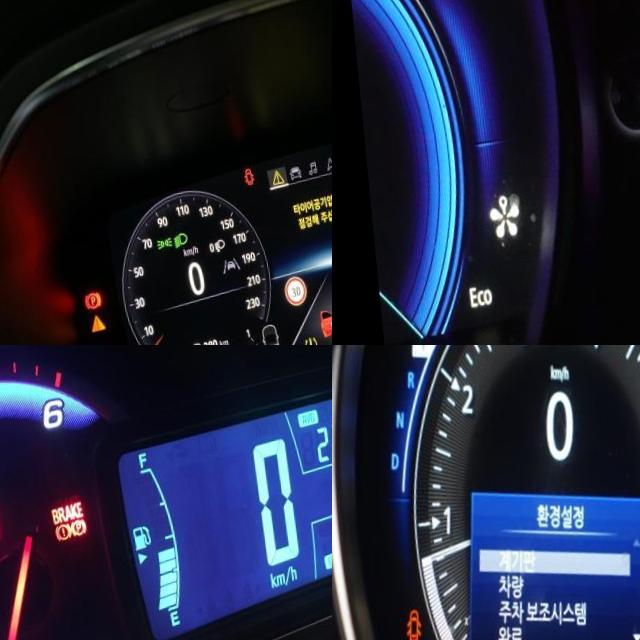Central Warning lamp: (82, 316, 97, 335), (266, 175, 279, 192)
Doors: (393, 610, 415, 640), (237, 172, 250, 191)
Low beam: (167, 234, 182, 253)
SideLamp: (149, 238, 165, 253)
